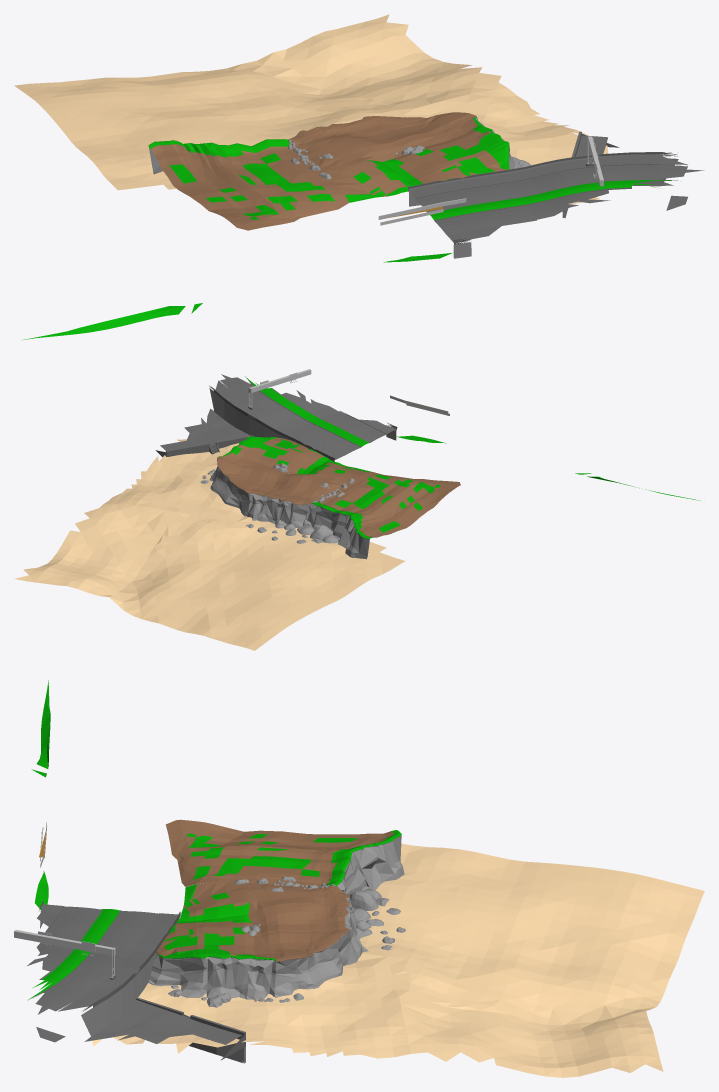
The model's file is bronx_e2_8.FBX.
3 views of the same model, one above another, from view 1: azimuth 30°, elevation 25°; view 2: azimuth 150°, elevation 25°; view 3: azimuth 270°, elevation 25° (orthographic). The views are drawn at different scales.
Visible parts, largest first — view 1: unnamed, null; view 2: unnamed, null; view 3: unnamed, null.
Part boxes in pixels (box(x1,y1,x2,y2)): unnamed: box(14, 14, 530, 340); null: box(375, 102, 704, 223); unnamed: box(14, 395, 700, 650); null: box(118, 369, 348, 515); unnamed: box(31, 680, 704, 1077); null: box(14, 927, 381, 1063).
Bounding box in the file's own units: 259 × 37.65 × 219.
